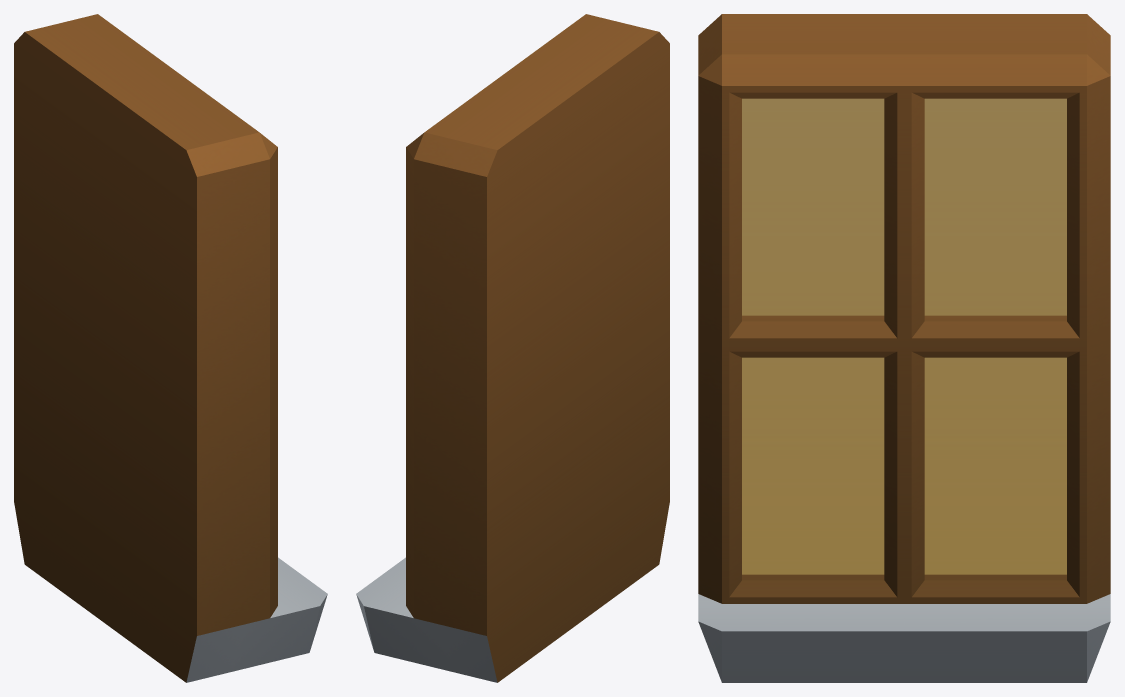
The model's file is WindowSquare.fbx.
The picture shows the model from 3 angles, left to right: view 1: azimuth 30°, elevation 25°; view 2: azimuth 150°, elevation 25°; view 3: azimuth 270°, elevation 25°; orthographic projection. The views are drawn at different scales.
Visible parts, largest first — view 1: pCube24; view 2: pCube24; view 3: pCube24.
Part boxes in pixels (left/top/right/bottom): pCube24: left=14, top=14, right=327, bottom=682; pCube24: left=356, top=14, right=669, bottom=682; pCube24: left=698, top=14, right=1110, bottom=682.
Bounding box in the file's own units: 0.5073 × 1.83 × 1.14.
1 material, 1 textured.
